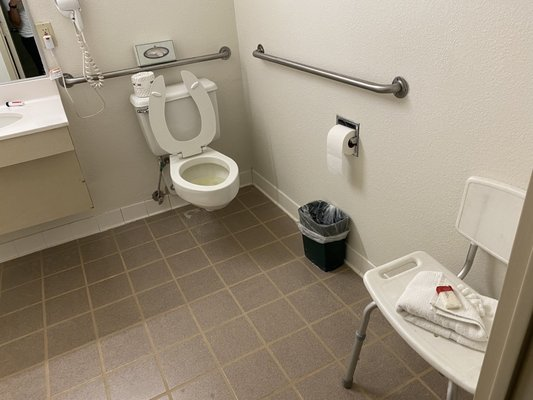chair: (340, 176, 528, 400)
counter: (1, 76, 75, 170)
countertop: (1, 88, 70, 144)
dispenser: (319, 116, 365, 174), (132, 42, 180, 68)
restroom_assist_bar: (253, 41, 409, 97), (57, 43, 232, 88)
sink: (1, 109, 28, 133)
toilet: (128, 75, 241, 213)
toilet_handle: (135, 105, 153, 116)
waste_bin: (296, 200, 351, 274)
